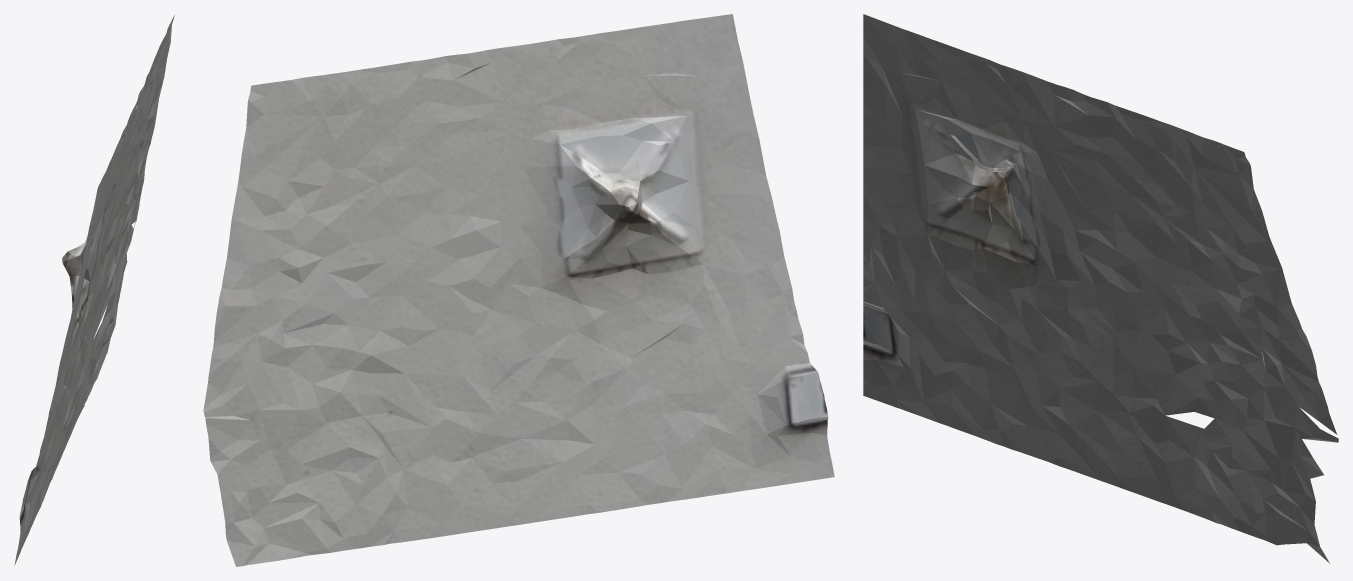
3 views of the same model, side by side, from view 1: azimuth 30°, elevation 25°; view 2: azimuth 150°, elevation 25°; view 3: azimuth 270°, elevation 25° (orthographic). The views are drawn at different scales.
Bounding box in the file's own units: 0.7795 × 0.8374 × 0.8374.
3 materials, 3 textured.
